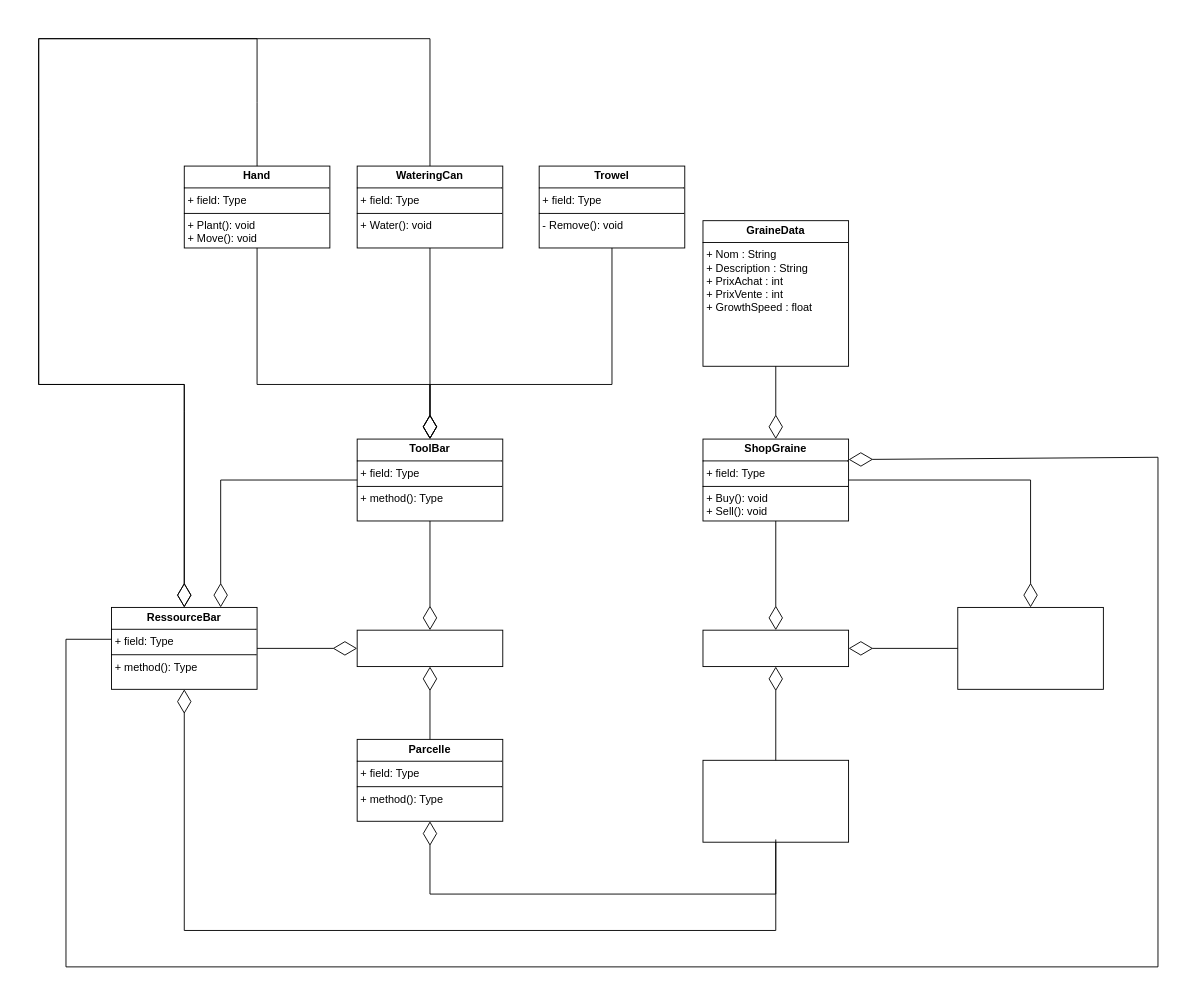
The diagram is 1198 pixels wide and 1006 high, and some of its shapes have lost their labels. Each missing label, with the centre of its shape:
FermeMain: pixel 429 648
ShopFerme + field: Type + Buy(): void: pixel 775 800
ShopMain: pixel 775 648
ShopOutils + field: Type + Buy(): void: pixel 1030 648
